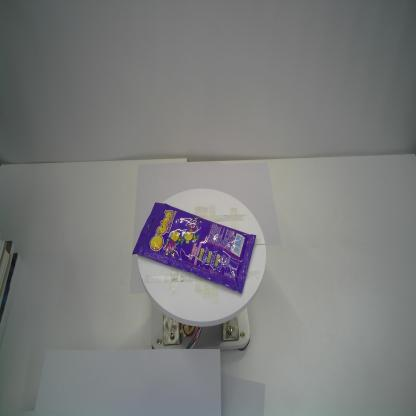Candy: (131, 201, 257, 296)
